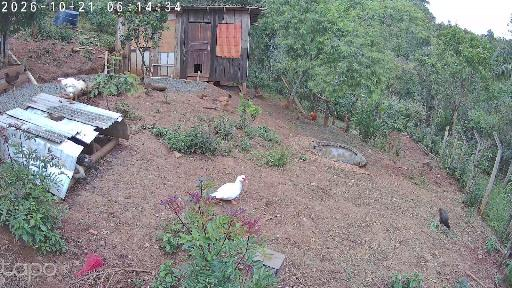frango: (76, 165, 88, 184)
galinha: (438, 208, 454, 235), (80, 153, 100, 172), (217, 94, 232, 111), (279, 98, 287, 108), (255, 88, 262, 95), (297, 112, 301, 124)
galo: (56, 76, 88, 103), (309, 110, 319, 125)
pato: (210, 173, 249, 205)
